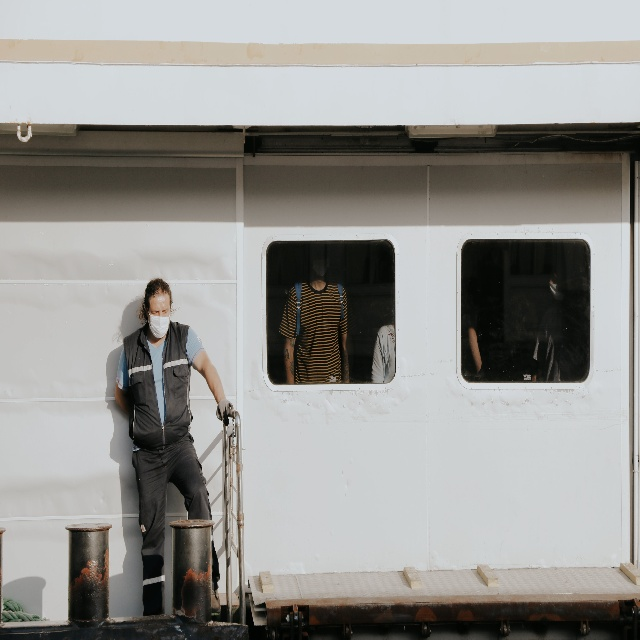Guantes: (215, 400, 234, 421)
Mascara: (146, 308, 170, 338), (312, 258, 329, 275)
